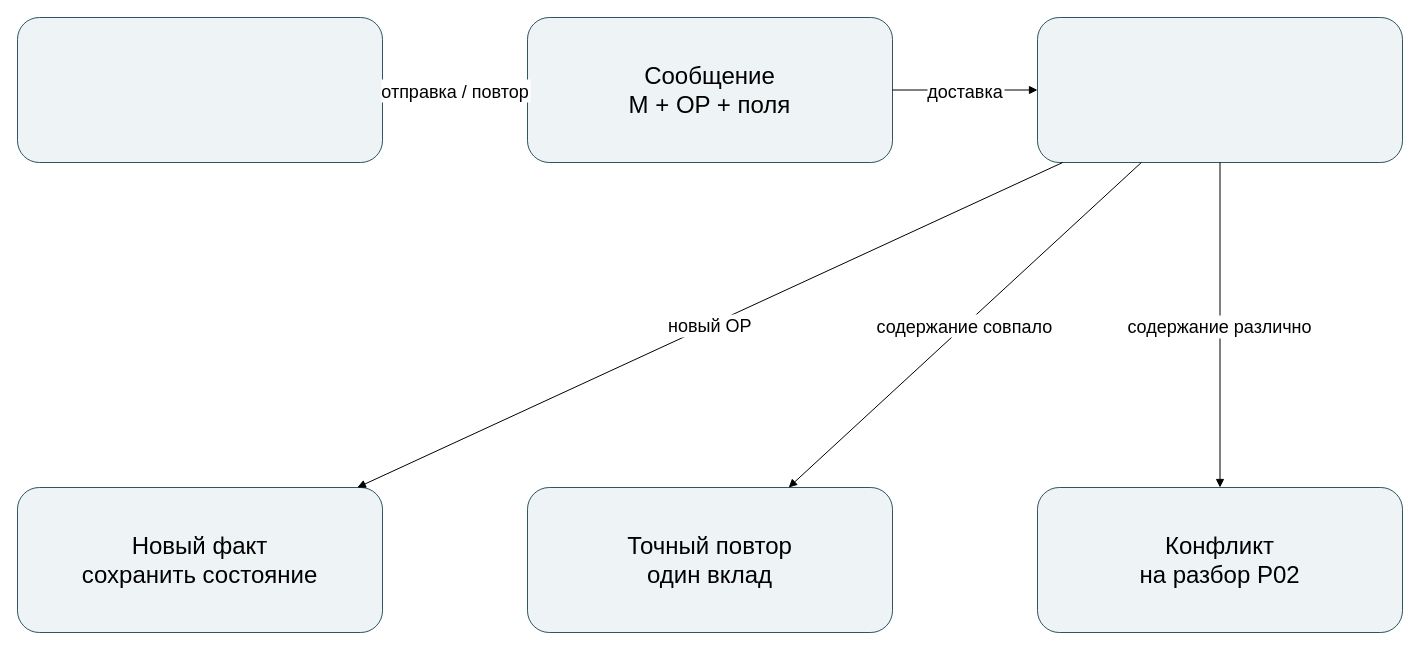
This 1420x650 diagram has some shape labels left out. The box of each missing label's shape, as (x1, y1, x2, y2) in pixels:
APP-01 сохраняет OP: (16, 16, 382, 162)
B проверка ключа и прав: (1036, 16, 1402, 162)
